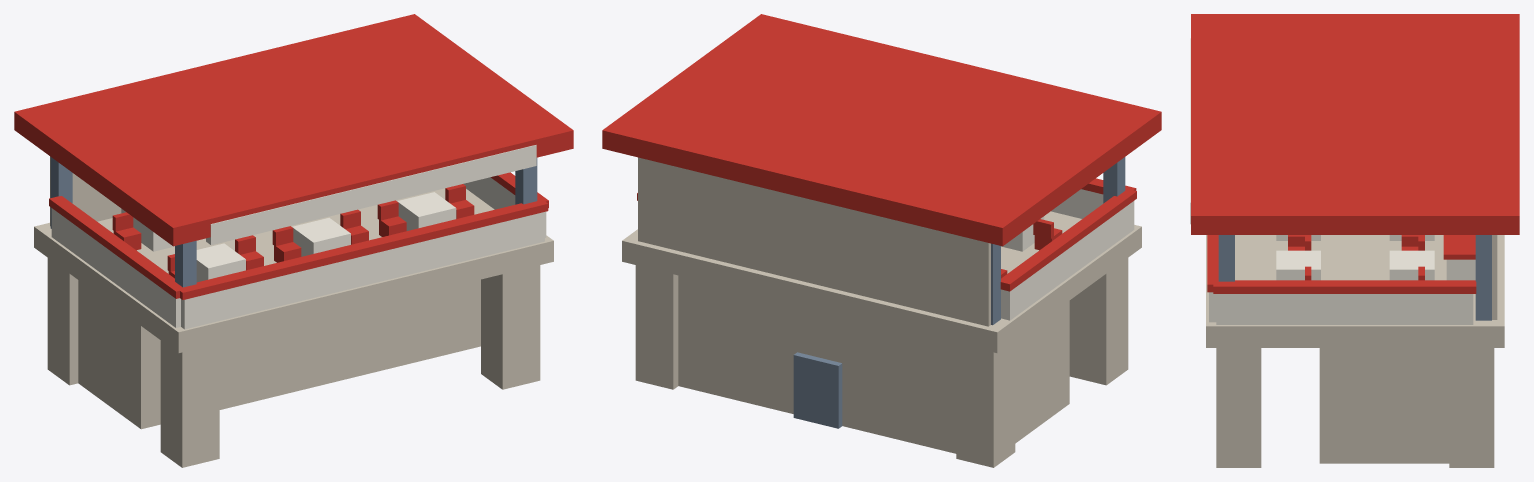
Rendered from hospitalityDeck.glb.
3 views of the same model, side by side, from view 1: azimuth 30°, elevation 25°; view 2: azimuth 150°, elevation 25°; view 3: azimuth 270°, elevation 25° (orthographic). The views are drawn at different scales.
Parts seen in each view (by area): view 1: hospitalityDeck_red, hospitalityDeck_concrete, hospitalityDeck_white, hospitalityDeck_steel; view 2: hospitalityDeck_concrete, hospitalityDeck_red, hospitalityDeck_white, hospitalityDeck_steel; view 3: hospitalityDeck_red, hospitalityDeck_concrete, hospitalityDeck_white, hospitalityDeck_steel.
Boxes of the visible parts, x1,y1,x2,y2 form: hospitalityDeck_red: [14, 14, 573, 299]; hospitalityDeck_concrete: [34, 156, 553, 467]; hospitalityDeck_white: [51, 145, 546, 329]; hospitalityDeck_steel: [50, 157, 537, 287]; hospitalityDeck_concrete: [622, 157, 1141, 467]; hospitalityDeck_red: [602, 14, 1161, 291]; hospitalityDeck_white: [1001, 189, 1134, 320]; hospitalityDeck_steel: [793, 157, 1125, 428]; hospitalityDeck_red: [1191, 14, 1519, 293]; hospitalityDeck_concrete: [1206, 235, 1504, 467]; hospitalityDeck_white: [1190, 38, 1475, 324]; hospitalityDeck_steel: [1218, 235, 1491, 320].
Bounding box in the file's own units: 16 × 9.7 × 11.03.
